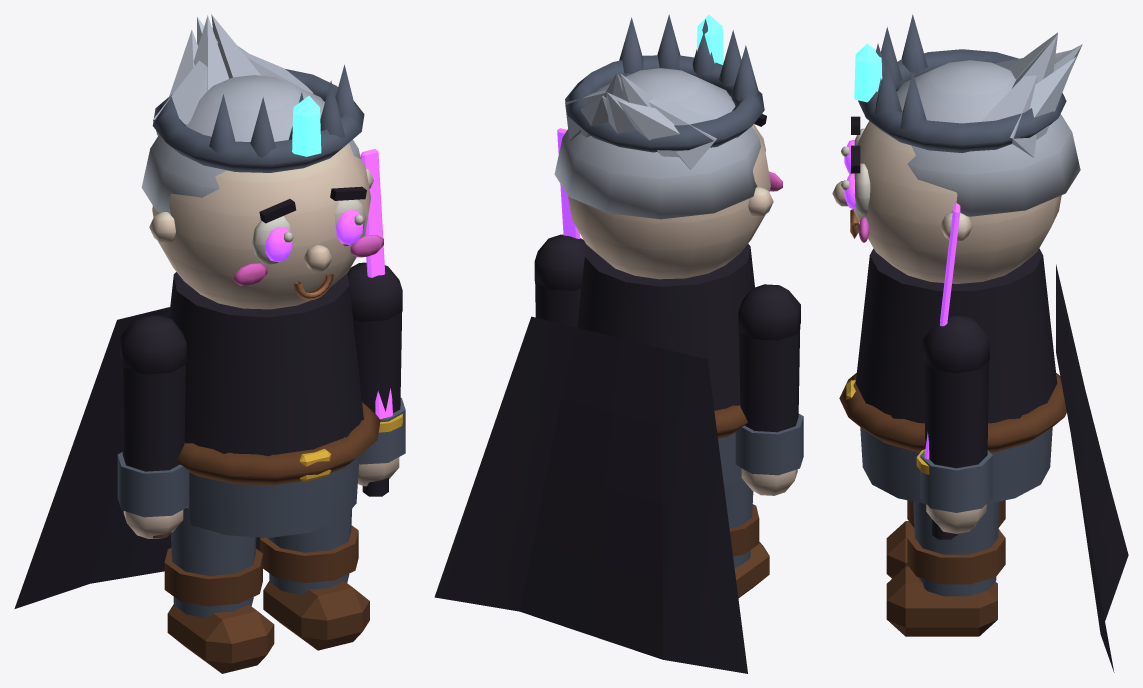
The model's file is hero_noctis.glb.
3 renders of one model, left to right at view 1: azimuth 30°, elevation 25°; view 2: azimuth 150°, elevation 25°; view 3: azimuth 270°, elevation 25°, orthographic. The views are drawn at different scales.
Parts seen in each view (by area): view 1: body_t0_palette, arml_t0_palette, legl_t0_palette, legr_t0_palette, armr_t0_palette, armr_t0_shadow_glow, body_t0_crystal, body_t0_shadow_glow; view 2: body_t0_palette, arml_t0_palette, armr_t0_palette, legl_t0_palette, body_t0_crystal, armr_t0_shadow_glow; view 3: body_t0_palette, armr_t0_palette, legr_t0_palette, legl_t0_palette, body_t0_crystal, armr_t0_shadow_glow, body_t0_shadow_glow.
Boxes of the visible parts, left/top/right/bottom form: body_t0_palette: left=14, top=14, right=383, bottom=608; arml_t0_palette: left=117, top=315, right=189, bottom=538; legl_t0_palette: left=164, top=507, right=274, bottom=673; legr_t0_palette: left=260, top=508, right=369, bottom=650; armr_t0_palette: left=347, top=262, right=405, bottom=496; armr_t0_shadow_glow: left=360, top=149, right=392, bottom=418; body_t0_crystal: left=292, top=96, right=321, bottom=156; body_t0_shadow_glow: left=265, top=210, right=362, bottom=261; body_t0_palette: left=434, top=14, right=782, bottom=673; arml_t0_palette: left=735, top=284, right=803, bottom=495; armr_t0_palette: left=534, top=234, right=586, bottom=327; legl_t0_palette: left=724, top=466, right=769, bottom=598; body_t0_crystal: left=697, top=14, right=723, bottom=64; armr_t0_shadow_glow: left=557, top=128, right=580, bottom=238; body_t0_palette: left=832, top=14, right=1128, bottom=672; armr_t0_palette: left=916, top=314, right=992, bottom=539; legr_t0_palette: left=886, top=501, right=1005, bottom=636; legl_t0_palette: left=886, top=500, right=1005, bottom=578; body_t0_crystal: left=854, top=43, right=882, bottom=102; armr_t0_shadow_glow: left=924, top=203, right=960, bottom=459; body_t0_shadow_glow: left=844, top=140, right=855, bottom=208.
Size of the model in its own units: 0.32 by 0.5391 by 0.253.
